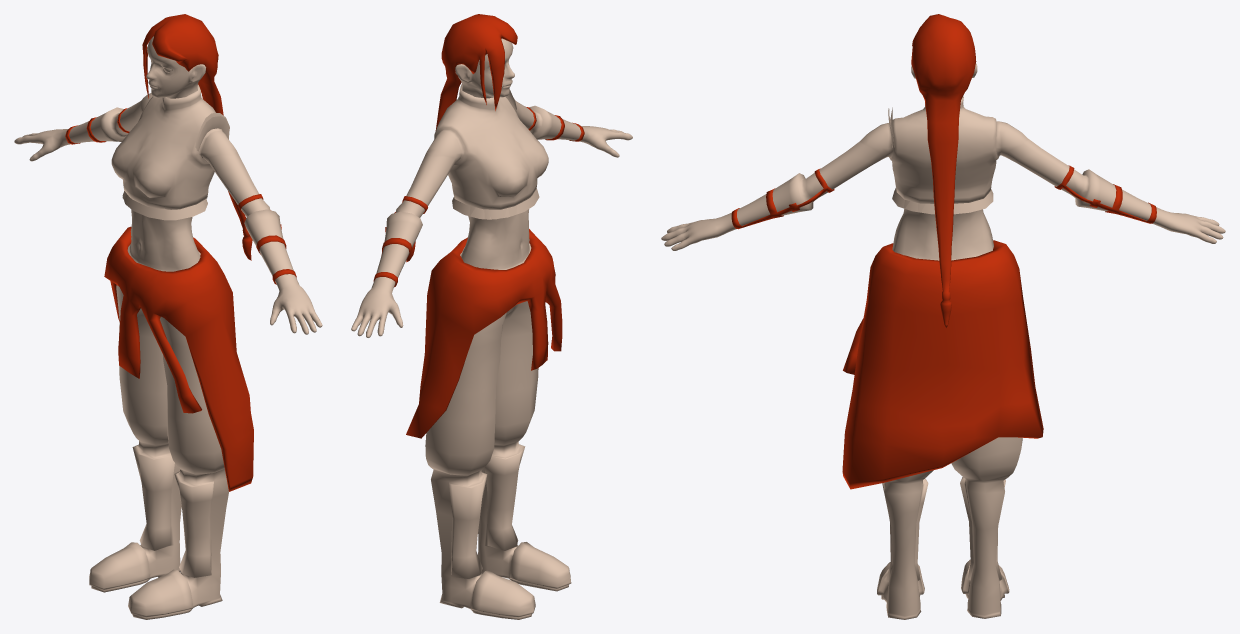
The model's file is gir.obj.
The picture shows the model from 3 angles, left to right: view 1: azimuth 30°, elevation 25°; view 2: azimuth 150°, elevation 25°; view 3: azimuth 270°, elevation 25°; orthographic projection. The views are drawn at different scales.
Visible parts, largest first — view 1: body_retop_Plane.011, coat.LP_Plane.015, hair_Retop_Plane, face_retop_Plane.013, fur_Plane.007, strapping_Plane.006, fur.001_Plane.012; view 2: body_retop_Plane.011, coat.LP_Plane.015, hair_Retop_Plane, face_retop_Plane.013, fur_Plane.007, strapping_Plane.006; view 3: coat.LP_Plane.015, body_retop_Plane.011, hair_Retop_Plane, strapping_Plane.006, fur_Plane.007.
Part boxes in pixels (left/top/right/bottom): body_retop_Plane.011: left=14, top=84, right=322, bottom=619; coat.LP_Plane.015: left=104, top=226, right=253, bottom=491; hair_Retop_Plane: left=142, top=14, right=252, bottom=260; face_retop_Plane.013: left=146, top=36, right=206, bottom=98; fur_Plane.007: left=122, top=191, right=207, bottom=220; strapping_Plane.006: left=65, top=108, right=296, bottom=284; fur.001_Plane.012: left=195, top=113, right=229, bottom=151; body_retop_Plane.011: left=351, top=84, right=632, bottom=619; coat.LP_Plane.015: left=406, top=229, right=562, bottom=438; hair_Retop_Plane: left=406, top=14, right=517, bottom=262; face_retop_Plane.013: left=455, top=38, right=514, bottom=98; fur_Plane.007: left=452, top=188, right=539, bottom=219; strapping_Plane.006: left=373, top=107, right=584, bottom=287; coat.LP_Plane.015: left=842, top=240, right=1043, bottom=489; body_retop_Plane.011: left=661, top=96, right=1225, bottom=619; hair_Retop_Plane: left=911, top=14, right=976, bottom=328; strapping_Plane.006: left=731, top=165, right=1156, bottom=229; fur_Plane.007: left=892, top=188, right=993, bottom=214.
Size of the model in its own units: 0.1397 by 0.5236 by 0.4544.
3 materials, 2 textured.
